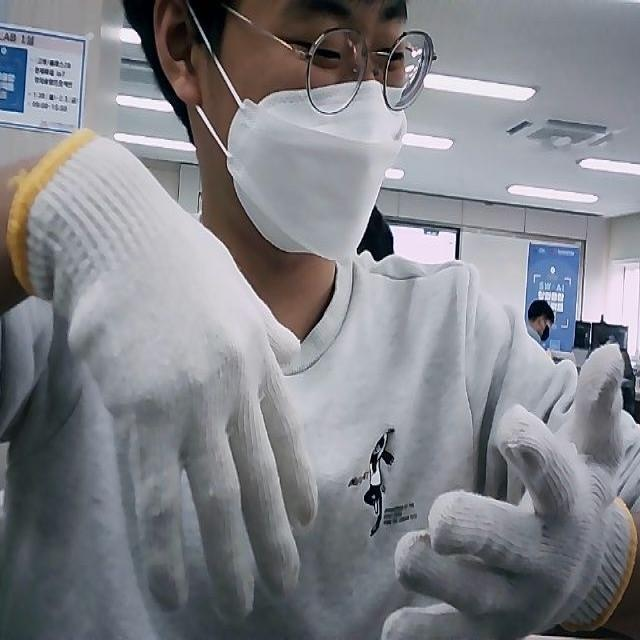Guantes: (8, 126, 320, 617), (380, 340, 640, 640)
